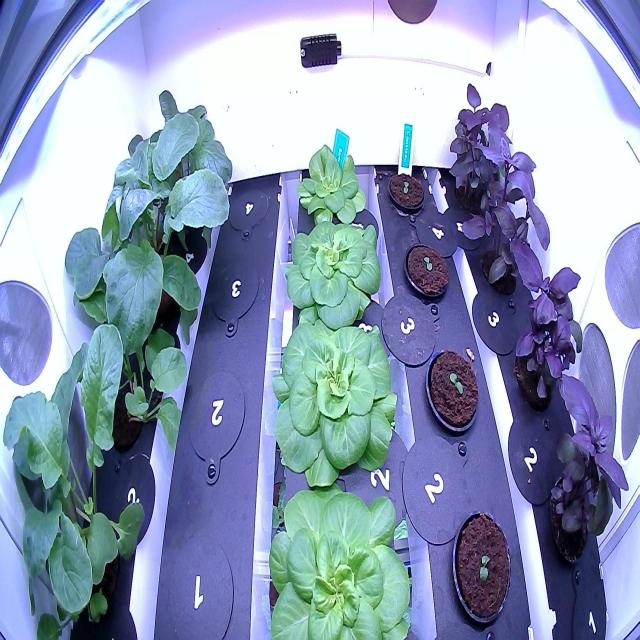empty_pod: (164, 526, 237, 638), (183, 366, 247, 485), (208, 253, 262, 330), (224, 186, 271, 240)
germination: (448, 508, 515, 628), (422, 343, 480, 442), (402, 238, 451, 304), (385, 168, 427, 219)
young: (261, 463, 417, 638), (268, 310, 400, 503), (281, 211, 383, 332), (289, 132, 371, 249)
